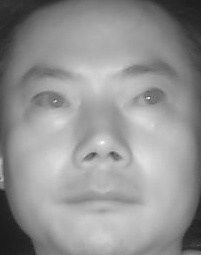eye: (27, 88, 73, 113), (128, 87, 167, 109)
mouth: (61, 177, 143, 220)
